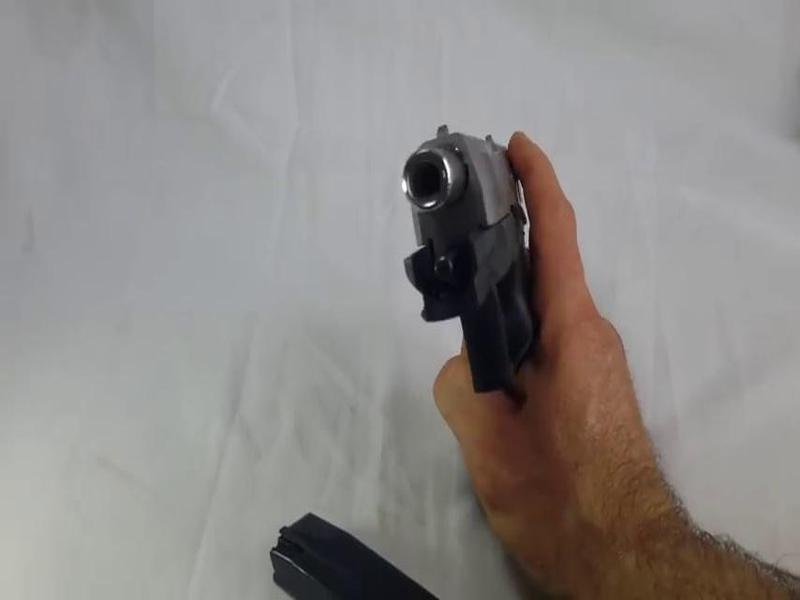Pistola: (344, 109, 626, 421)
